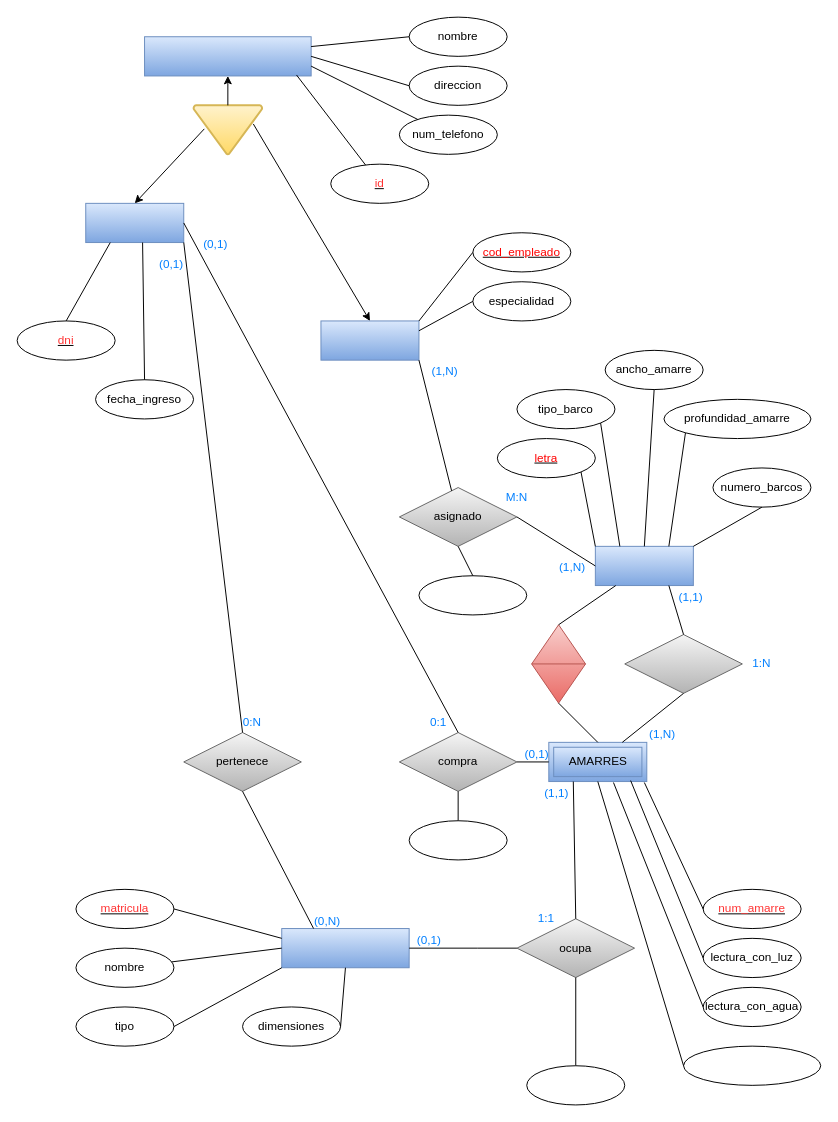
The diagram is 838 pixels wide and 1122 high, and some of its shapes have lost their labels. The shapes that lost their labels are listed below. From the top down, each one's centre as x and y in pixels, then its label:
At pixel 227 56: "PERSONA".
At pixel 134 222: "SOCIOS".
At pixel 369 340: "EMPLEADOS".
At pixel 643 565: "ZONAS".
At pixel 472 595: "barcos_asignados".
At pixel 558 663: "E tiene".
At pixel 683 663: "tiene".
At pixel 457 840: "fecha_compra".
At pixel 345 948: "EMBARCACIONES".
At pixel 575 1085: "fecha_asignacion".
At pixel 752 1065: "Servicio_mantenimiento".
